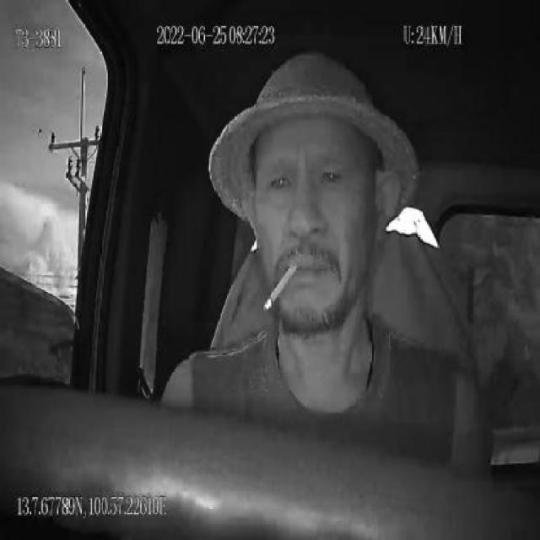smoking: (264, 257, 300, 312)
